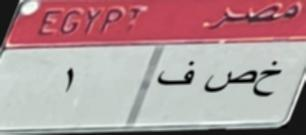1: (59, 61, 84, 100)
faa: (155, 57, 197, 93)
khaa: (256, 59, 290, 102)
saad: (204, 68, 256, 96)
